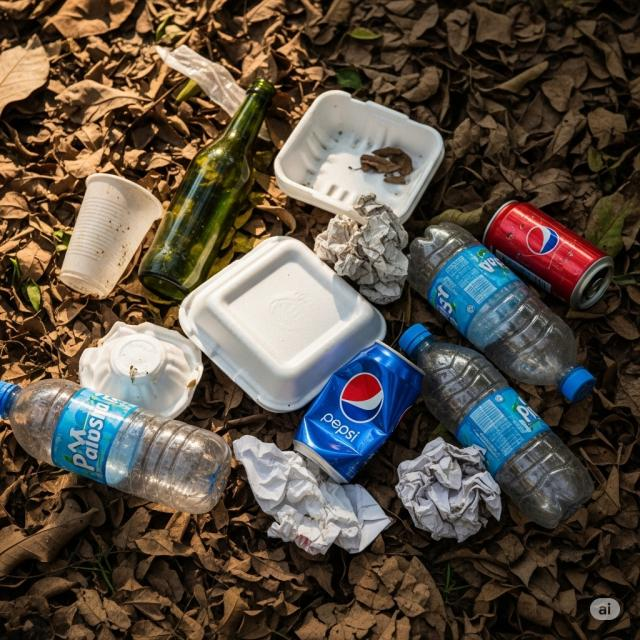aluminum: (291, 339, 428, 485), (476, 195, 620, 314)
plastic: (176, 235, 389, 416), (406, 226, 596, 403), (0, 377, 237, 513), (61, 172, 166, 304)
